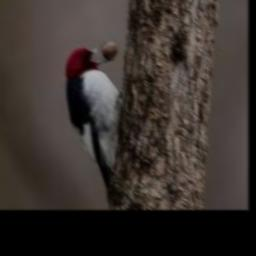Woodpecker: (65, 41, 122, 207)
